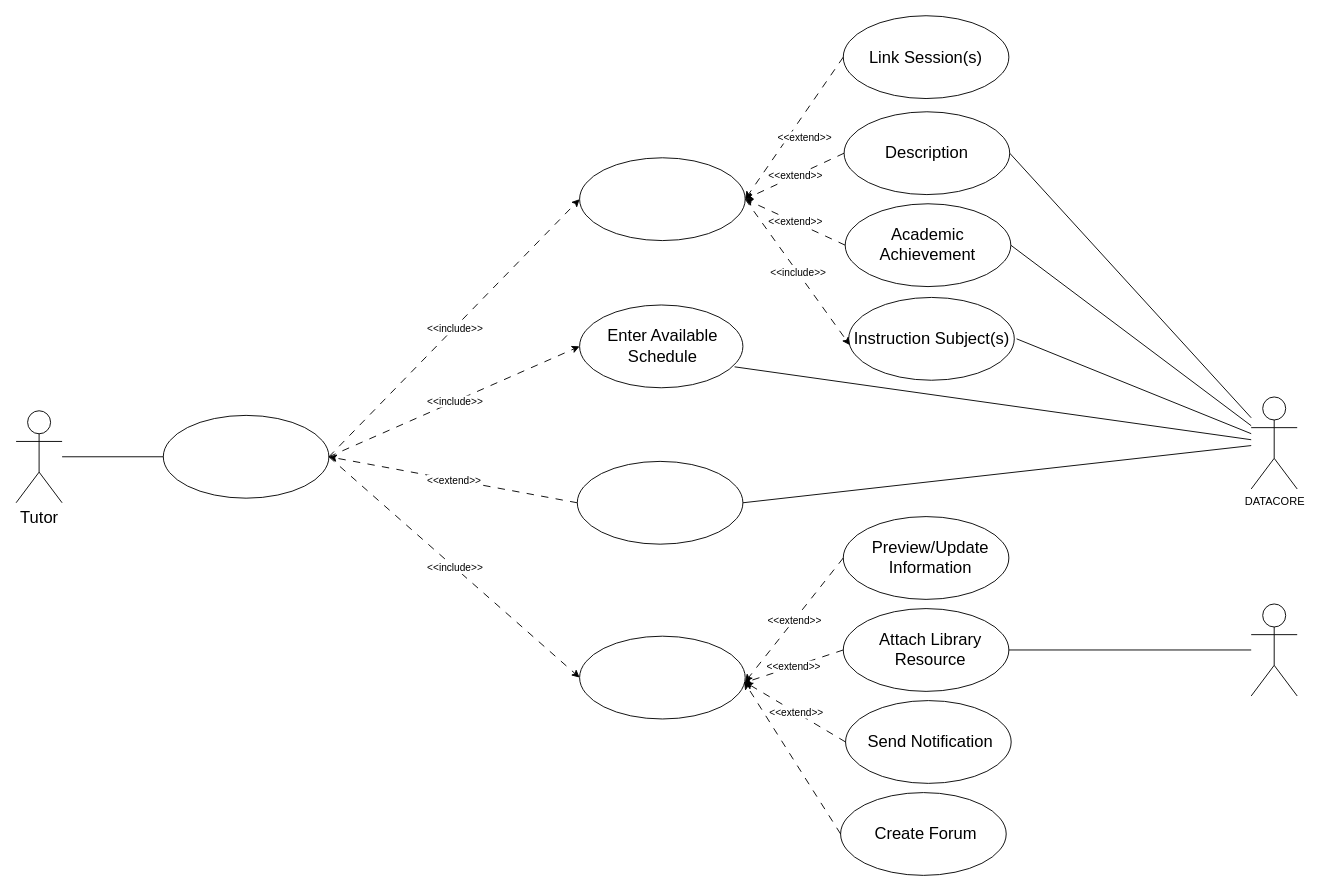
The diagram is 1337 pixels wide and 892 high, and some of its shapes have lost their labels. Here are the shapes that lost their labels. From the top down, the centre of each, then its label:
At (x=662, y=199): "Enter Profile Details".
At (x=245, y=456): "Provide Information".
At (x=659, y=502): "View Student List".
At (x=1273, y=649): "HCMUT_LIBRARY".
At (x=662, y=677): "Enter Session Details".
